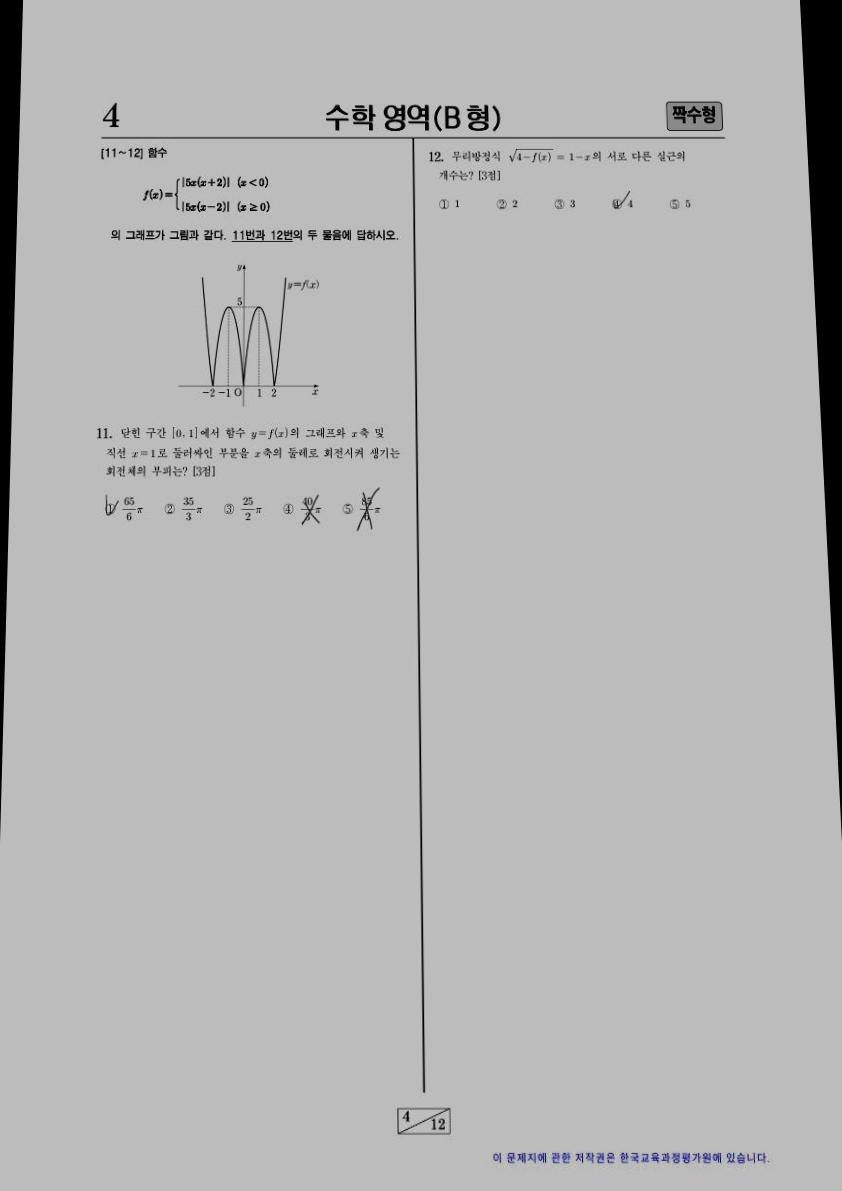question: (87, 138, 404, 542), (415, 138, 711, 237)
